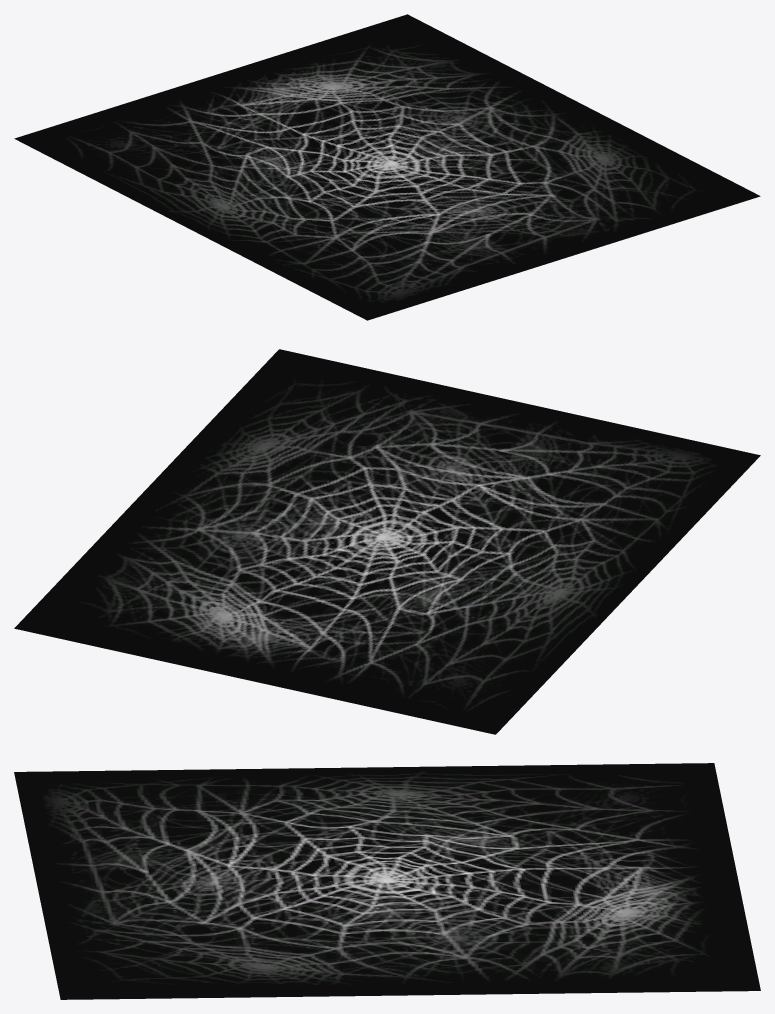
Rendered from MIRKWOOD_PLANE21.fbx.
3 views of the same model, one above another, from view 1: azimuth 30°, elevation 25°; view 2: azimuth 150°, elevation 25°; view 3: azimuth 270°, elevation 25° (orthographic). The views are drawn at different scales.
Visible parts, largest first — view 1: MIRKWOOD_PLANE21; view 2: MIRKWOOD_PLANE21; view 3: MIRKWOOD_PLANE21.
Part boxes in pixels (x1,y1,x2,y2): MIRKWOOD_PLANE21: (14,14,760,320); MIRKWOOD_PLANE21: (14,349,760,734); MIRKWOOD_PLANE21: (14,763,760,999).
Size of the model in its own units: 106274 by 6393 by 123389.
Materials: 1 (1 with a texture image).
